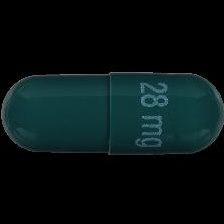68151-5817: (0, 0, 224, 224)
